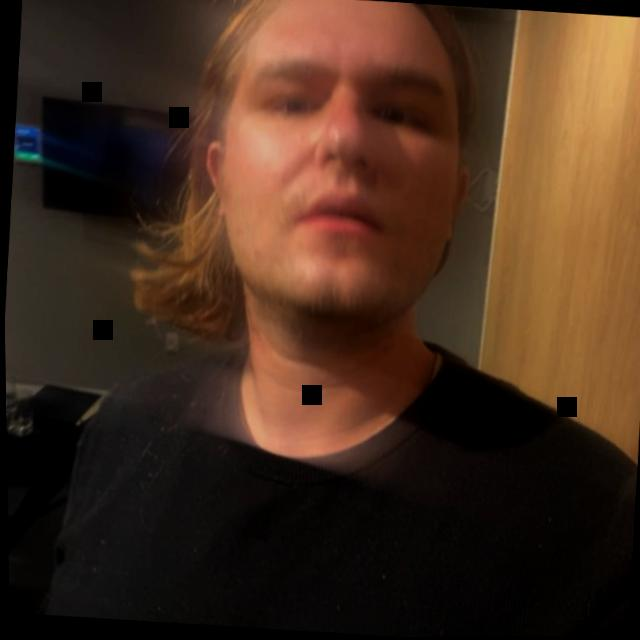NO-Mask: (105, 0, 507, 503)
